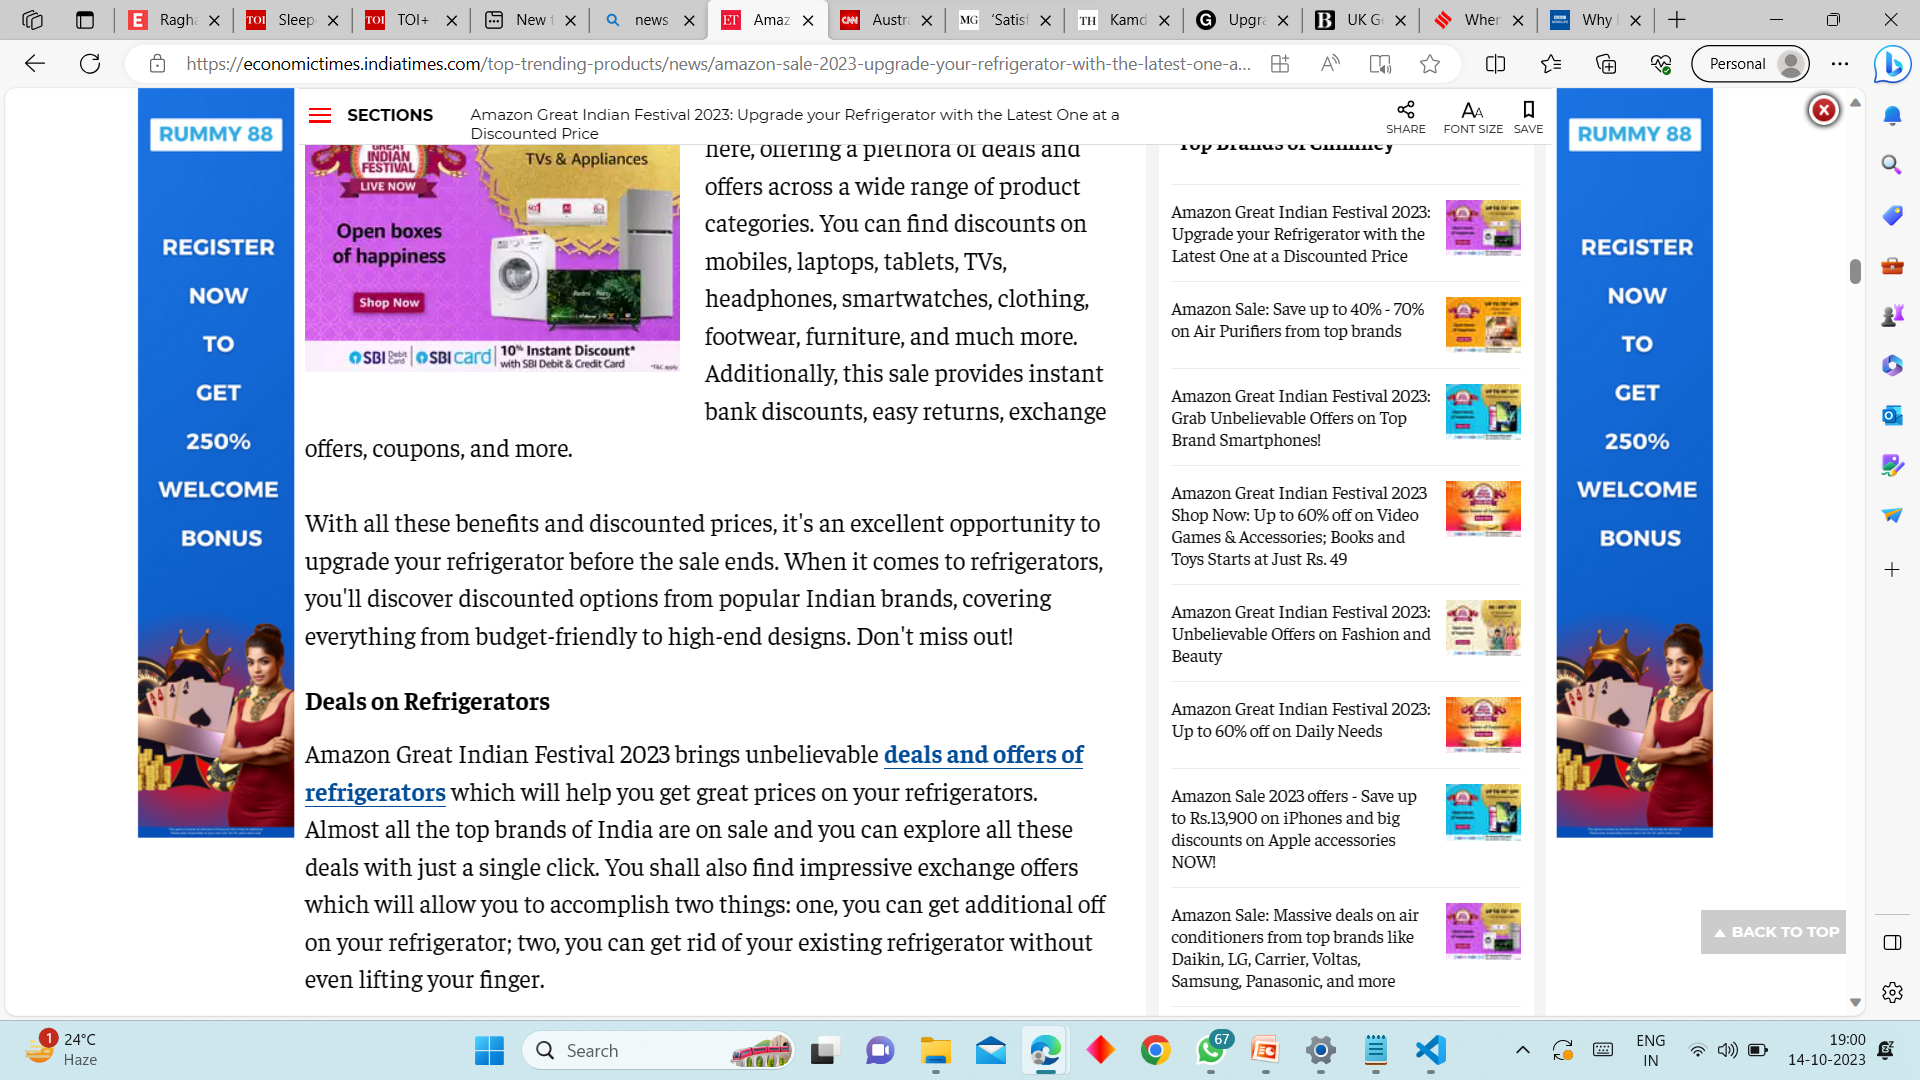Image: (132, 92, 286, 833), (1553, 92, 1701, 823), (306, 141, 684, 369), (1444, 378, 1524, 443), (1447, 199, 1530, 260), (1444, 479, 1523, 541), (1447, 903, 1518, 967), (1443, 691, 1510, 756), (1447, 597, 1518, 655), (1444, 299, 1524, 347), (1447, 790, 1523, 833)
Paragraph: (305, 740, 1112, 1009), (302, 510, 1131, 659), (704, 135, 1098, 444), (1156, 476, 1427, 568), (1154, 378, 1437, 459), (1172, 782, 1420, 870), (454, 100, 1145, 132), (1170, 595, 1437, 673), (1160, 199, 1437, 266), (1160, 691, 1418, 762), (1163, 906, 1407, 968), (1160, 295, 1429, 349), (311, 427, 584, 479), (293, 682, 553, 727), (344, 90, 450, 132)
